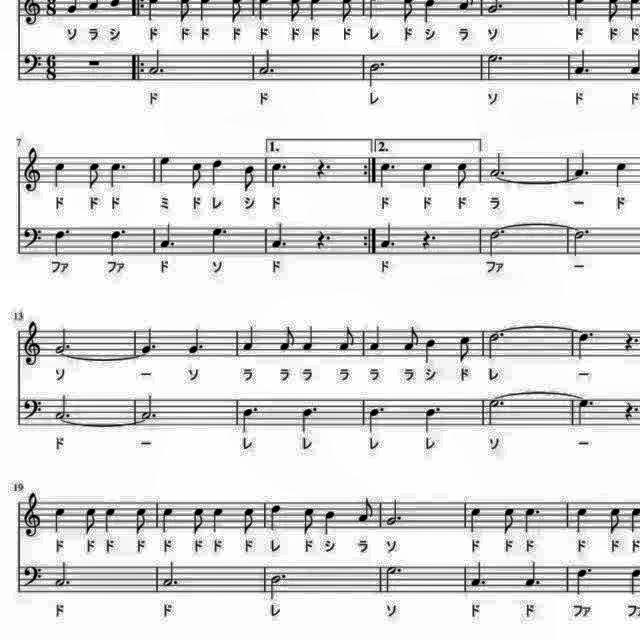Bass-clef: (22, 225, 46, 255), (22, 395, 46, 425), (22, 51, 46, 80), (22, 562, 46, 590)
Eighth-note: (354, 494, 378, 526), (80, 504, 100, 538), (399, 324, 421, 354), (604, 504, 624, 536), (454, 334, 474, 366), (452, 160, 472, 192), (300, 504, 320, 536), (130, 506, 150, 538), (85, 160, 104, 192), (187, 160, 206, 192), (277, 324, 297, 354), (338, 325, 358, 355), (240, 506, 258, 538), (190, 505, 208, 537), (241, 162, 259, 194), (499, 504, 517, 536)
Half-dot: (484, 222, 508, 258), (484, 51, 508, 85), (364, 58, 388, 90), (568, 226, 592, 258), (384, 493, 406, 527), (383, 564, 405, 596), (159, 559, 181, 591), (268, 569, 290, 601), (259, 48, 281, 80), (53, 558, 75, 590), (138, 392, 160, 424), (53, 323, 75, 355), (53, 391, 75, 421), (486, 398, 506, 430), (486, 330, 506, 362), (488, 149, 508, 179), (146, 48, 166, 78)
Half-rest: (86, 56, 105, 72)
Quarter-dot: (50, 225, 76, 259), (208, 223, 232, 257), (520, 504, 544, 536), (108, 162, 132, 194), (105, 226, 129, 258), (574, 396, 598, 428), (296, 404, 320, 436), (238, 404, 262, 436), (571, 565, 593, 599), (421, 404, 444, 436), (269, 158, 291, 190), (571, 47, 593, 79), (574, 329, 596, 361), (572, 148, 594, 180), (521, 558, 543, 590), (466, 558, 489, 588), (159, 221, 179, 253), (188, 326, 208, 358), (270, 220, 290, 252), (366, 404, 386, 436), (138, 325, 158, 357), (378, 160, 400, 188), (376, 220, 396, 250)
Quarter-note: (156, 154, 176, 188), (266, 502, 286, 534), (612, 159, 632, 191), (417, 158, 437, 190), (101, 504, 119, 536), (160, 504, 178, 536), (241, 322, 259, 354), (572, 504, 590, 536), (52, 504, 70, 536), (52, 159, 70, 191), (208, 156, 226, 188), (209, 504, 227, 536), (469, 502, 487, 534), (320, 507, 338, 538), (301, 325, 319, 355), (421, 335, 439, 365), (368, 324, 384, 354)
Quarter-rest: (418, 228, 434, 256), (313, 227, 327, 253), (313, 156, 327, 182), (622, 400, 636, 424), (621, 330, 635, 354)
Treble-clef: (22, 146, 46, 198), (18, 488, 42, 540), (22, 319, 46, 369)
